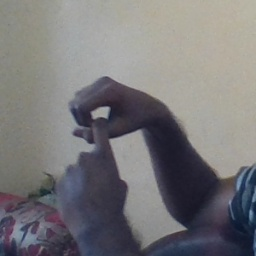Q: (48, 76, 161, 215)
